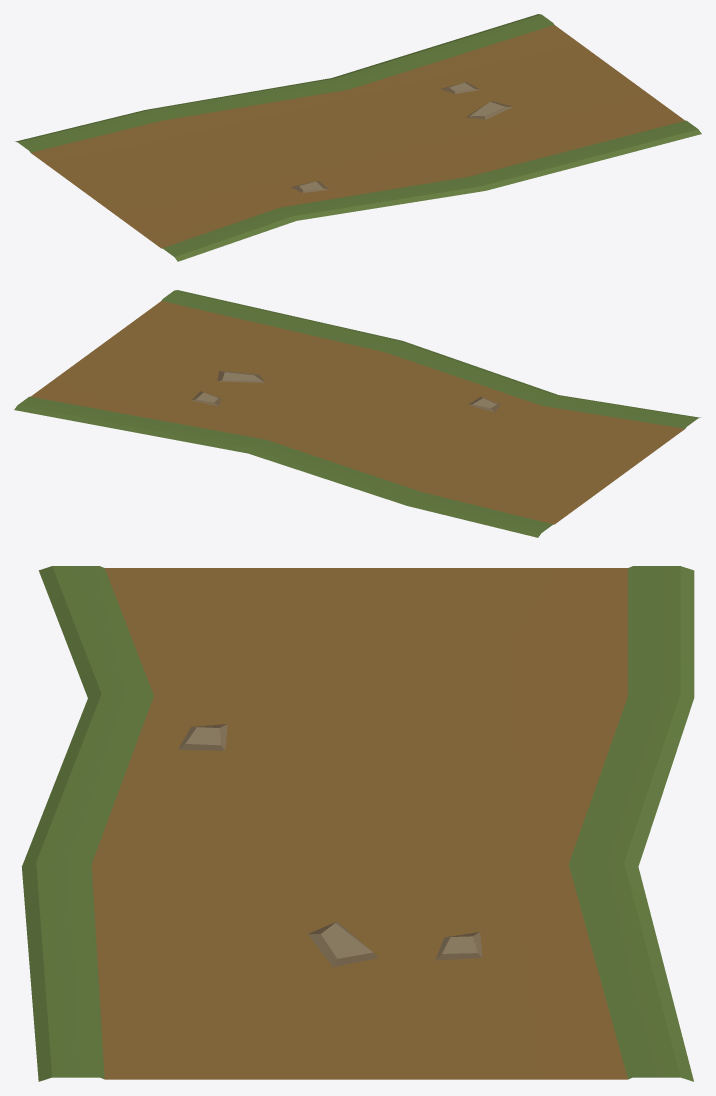
Rendered from Path_Straight_02.gltf.
3 renders of one model, top to bottom at view 1: azimuth 30°, elevation 25°; view 2: azimuth 150°, elevation 25°; view 3: azimuth 270°, elevation 25°, orthographic. The views are drawn at different scales.
Parts seen in each view (by area): view 1: SF_Env_Path_Straight_02; view 2: SF_Env_Path_Straight_02; view 3: SF_Env_Path_Straight_02.
Part boxes in pixels (<box>): SF_Env_Path_Straight_02: <box>15,14,701,261</box>; SF_Env_Path_Straight_02: <box>14,290,700,537</box>; SF_Env_Path_Straight_02: <box>22,566,694,1081</box>.
Bounding box in the file's own units: 0.1 × 0.000405 × 0.0556.
Materials: 1 (1 with a texture image).
